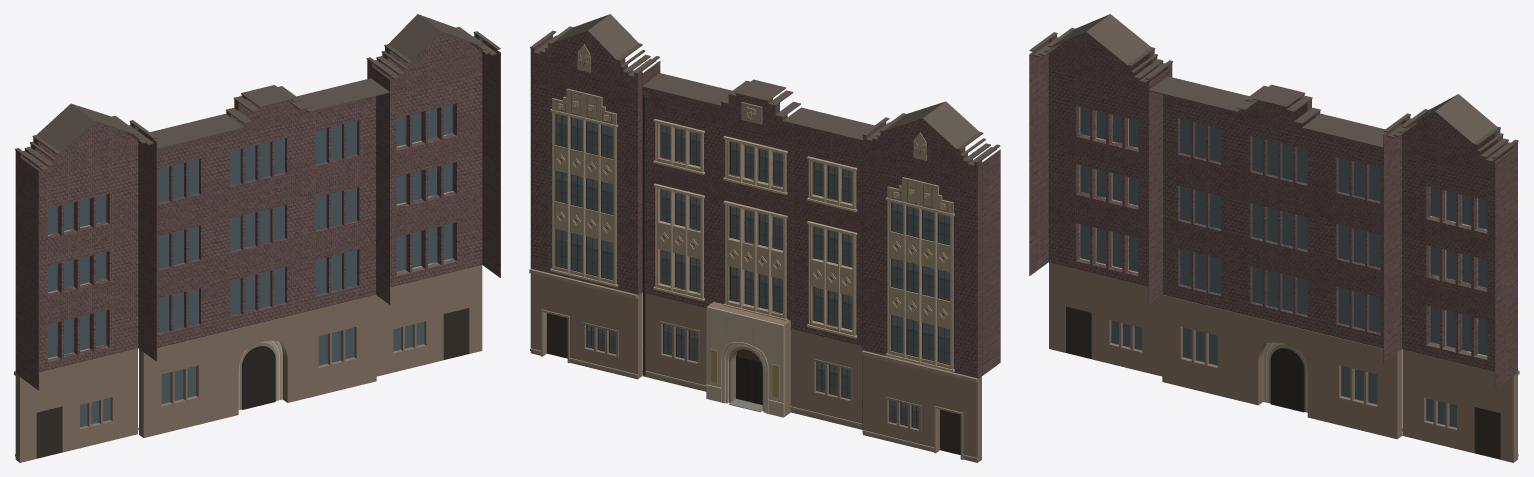
The model's file is huangpu-cathedral-school-jiujiang-front-raw.glb.
3 renders of one model, left to right at view 1: azimuth 30°, elevation 25°; view 2: azimuth 150°, elevation 25°; view 3: azimuth 330°, elevation 25°, orthographic. The views are drawn at different scales.
Visible parts, largest first — view 1: 九江路原教会学校入口与双山墙; view 2: 九江路原教会学校入口与双山墙; view 3: 九江路原教会学校入口与双山墙.
Boxes of the visible parts, x1,y1,x2,y2 form: 九江路原教会学校入口与双山墙: (14, 14, 500, 462); 九江路原教会学校入口与双山墙: (529, 14, 1000, 462); 九江路原教会学校入口与双山墙: (1029, 14, 1519, 462).
Size of the model in its own units: 30.14 by 21.67 by 2.95.
Materials: 22 (1 with a texture image).
